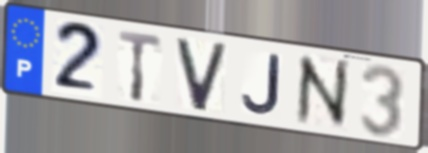2: (50, 20, 107, 102)
3: (358, 61, 409, 142)
J: (239, 52, 283, 118)
N: (294, 52, 351, 130)
T: (116, 28, 165, 105)
V: (173, 36, 231, 115)
